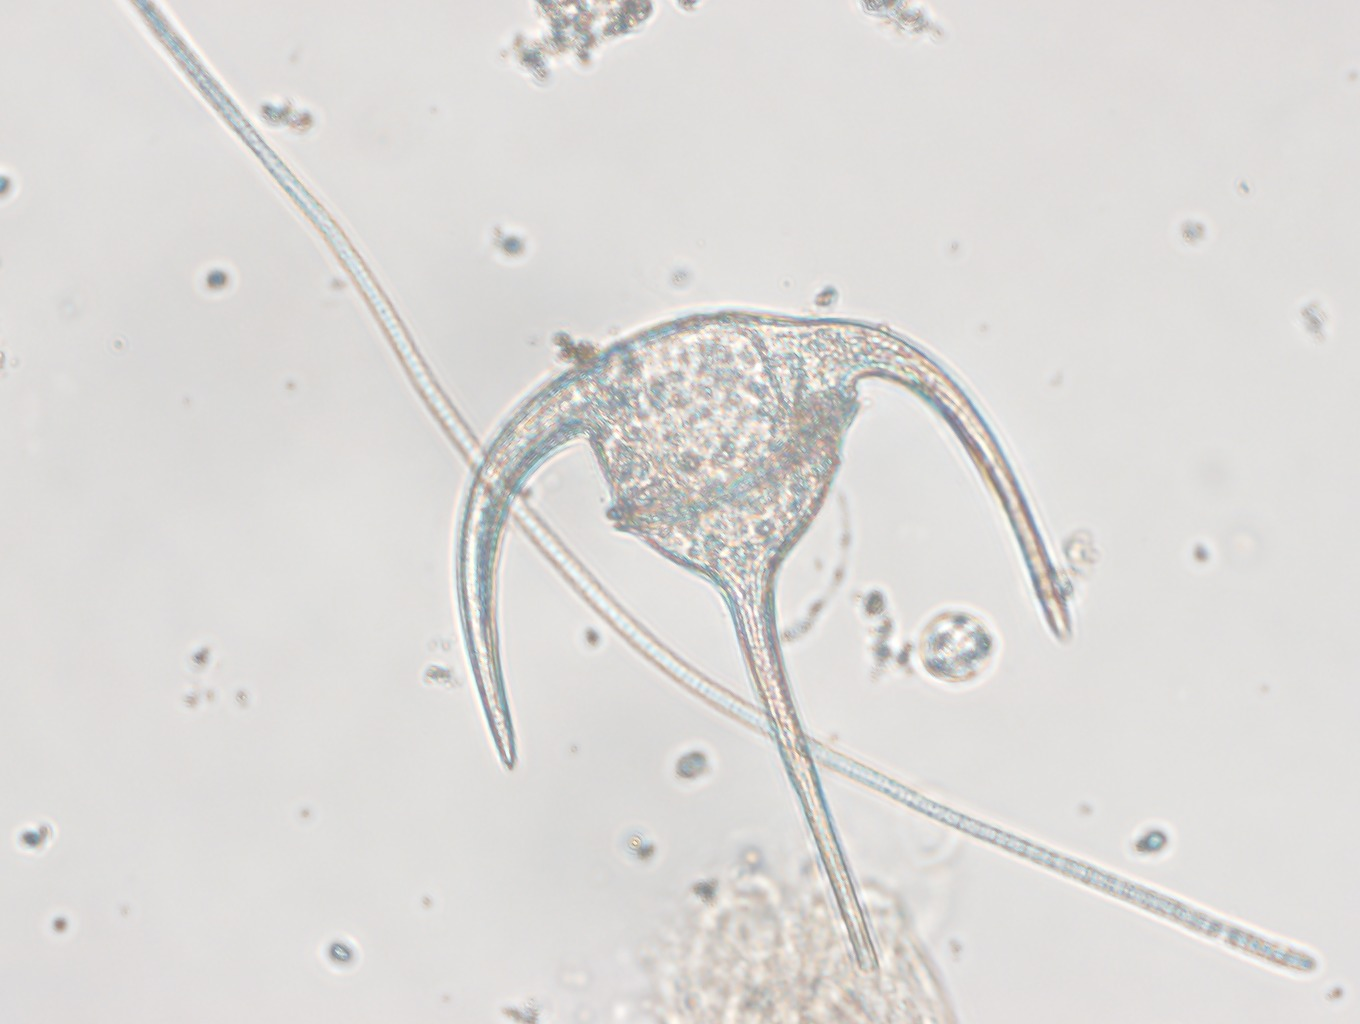ceratium tripos: (455, 305, 1073, 973)
